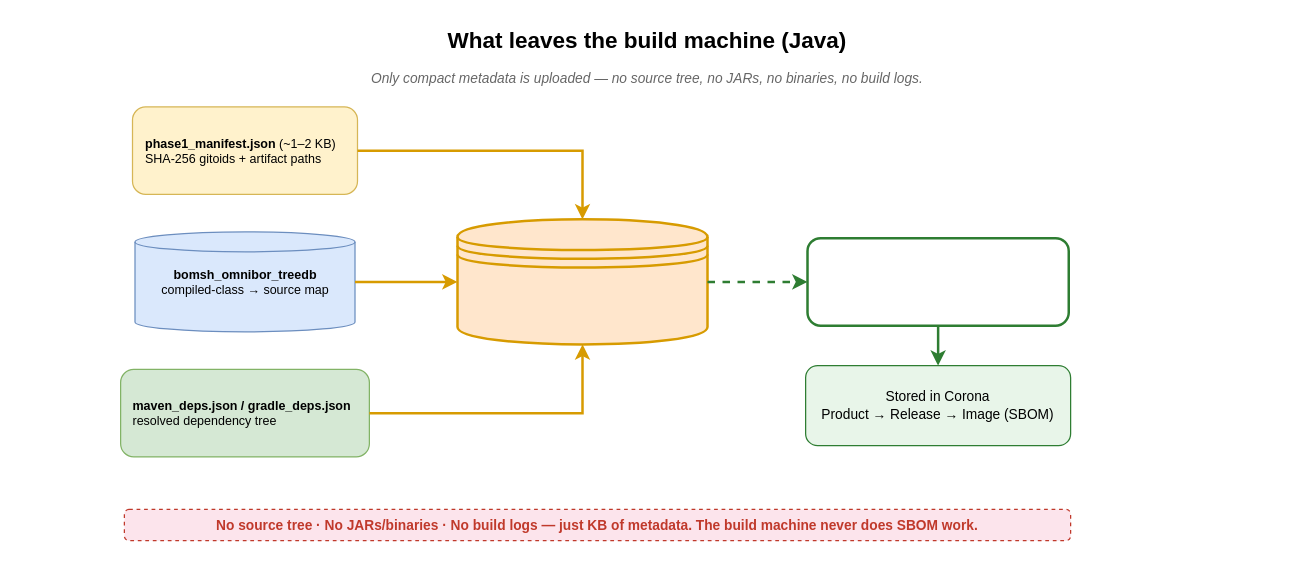
The diagram is 1293 pixels wide and 563 high, and some of its shapes have lost their labels. The box of each missing label's shape, as (x1, y1, x2, y2) in pixels:
Corona Phase 2 builds SPDX 2.3 SBOM from the metadata: (806, 236, 1069, 326)
Corona S3 / Artifactory intake: (456, 218, 708, 345)
